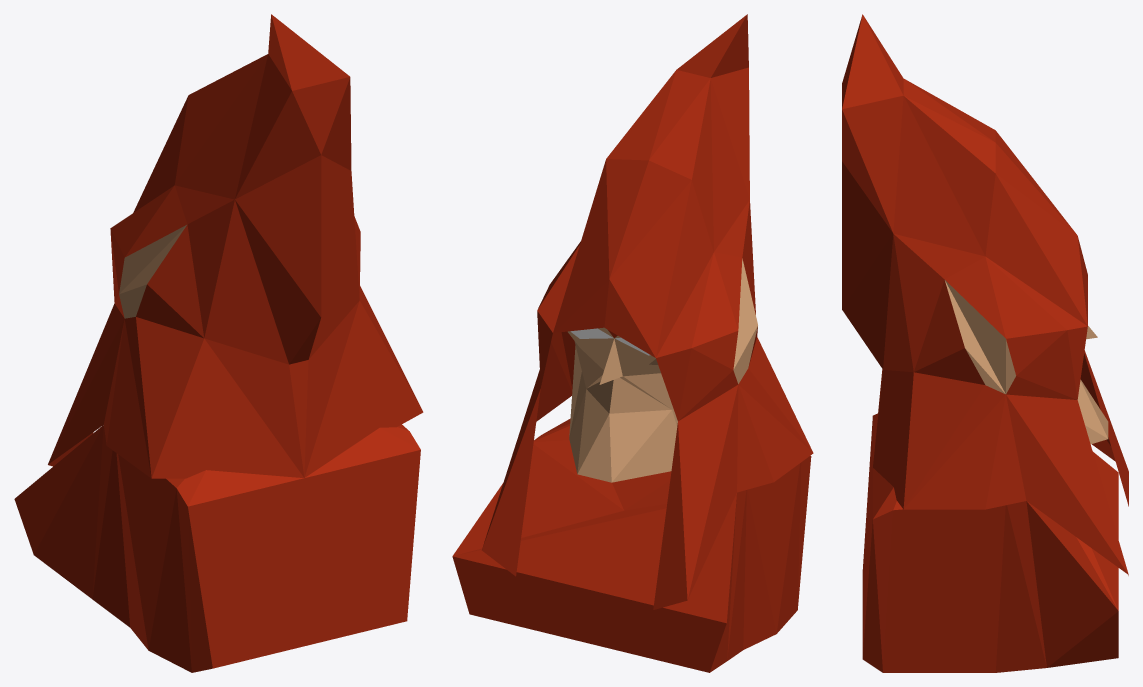
The model's file is npc_world_cheerleader_1.obj.
The picture shows the model from 3 angles, left to right: view 1: azimuth 30°, elevation 25°; view 2: azimuth 150°, elevation 25°; view 3: azimuth 270°, elevation 25°; orthographic projection. The views are drawn at different scales.
Bounding box in the file's own units: 0.25 × 0.5 × 0.2188.
